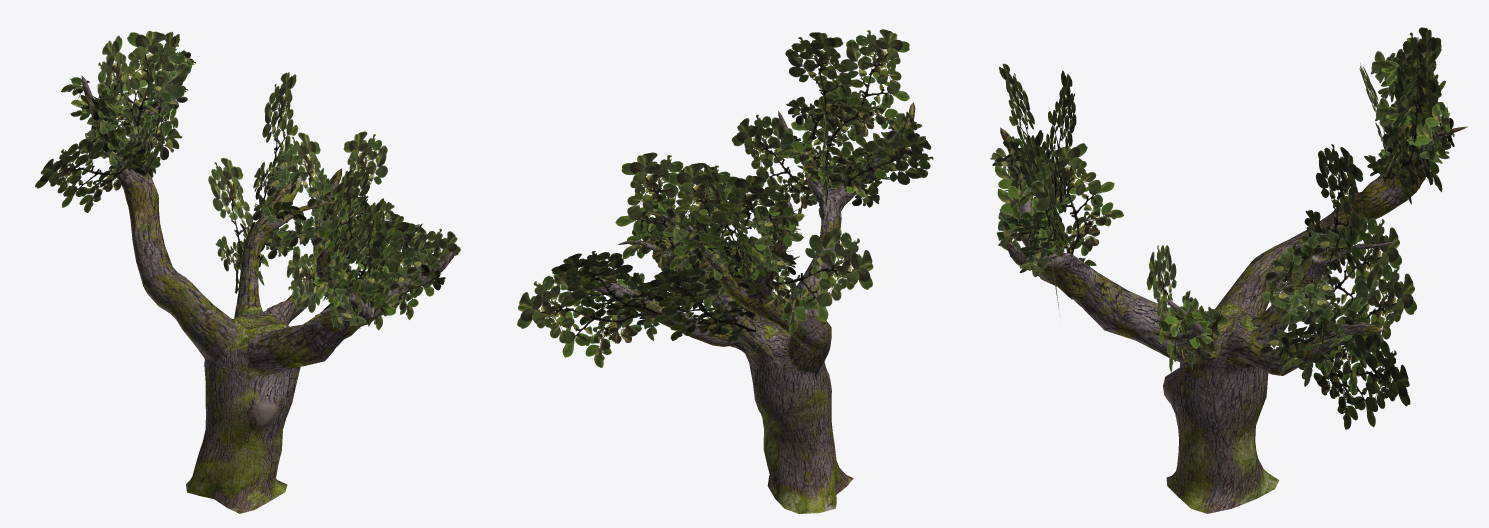
Rendered from tree5.FBX.
3 renders of one model, left to right at view 1: azimuth 30°, elevation 25°; view 2: azimuth 150°, elevation 25°; view 3: azimuth 270°, elevation 25°, orthographic. The views are drawn at different scales.
Parts seen in each view (by area): view 1: Plane2175, tree5uv; view 2: Plane2175, tree5uv; view 3: Plane2175, tree5uv.
Part boxes in pixels (x1,y1,x2,y2): Plane2175: (35,31,460,330); tree5uv: (81,52,455,513); Plane2175: (517,29,933,367); tree5uv: (560,102,915,513); Plane2175: (990,27,1454,429); tree5uv: (1000,37,1467,513).
Size of the model in its own units: 1032 by 1089 by 1083.
